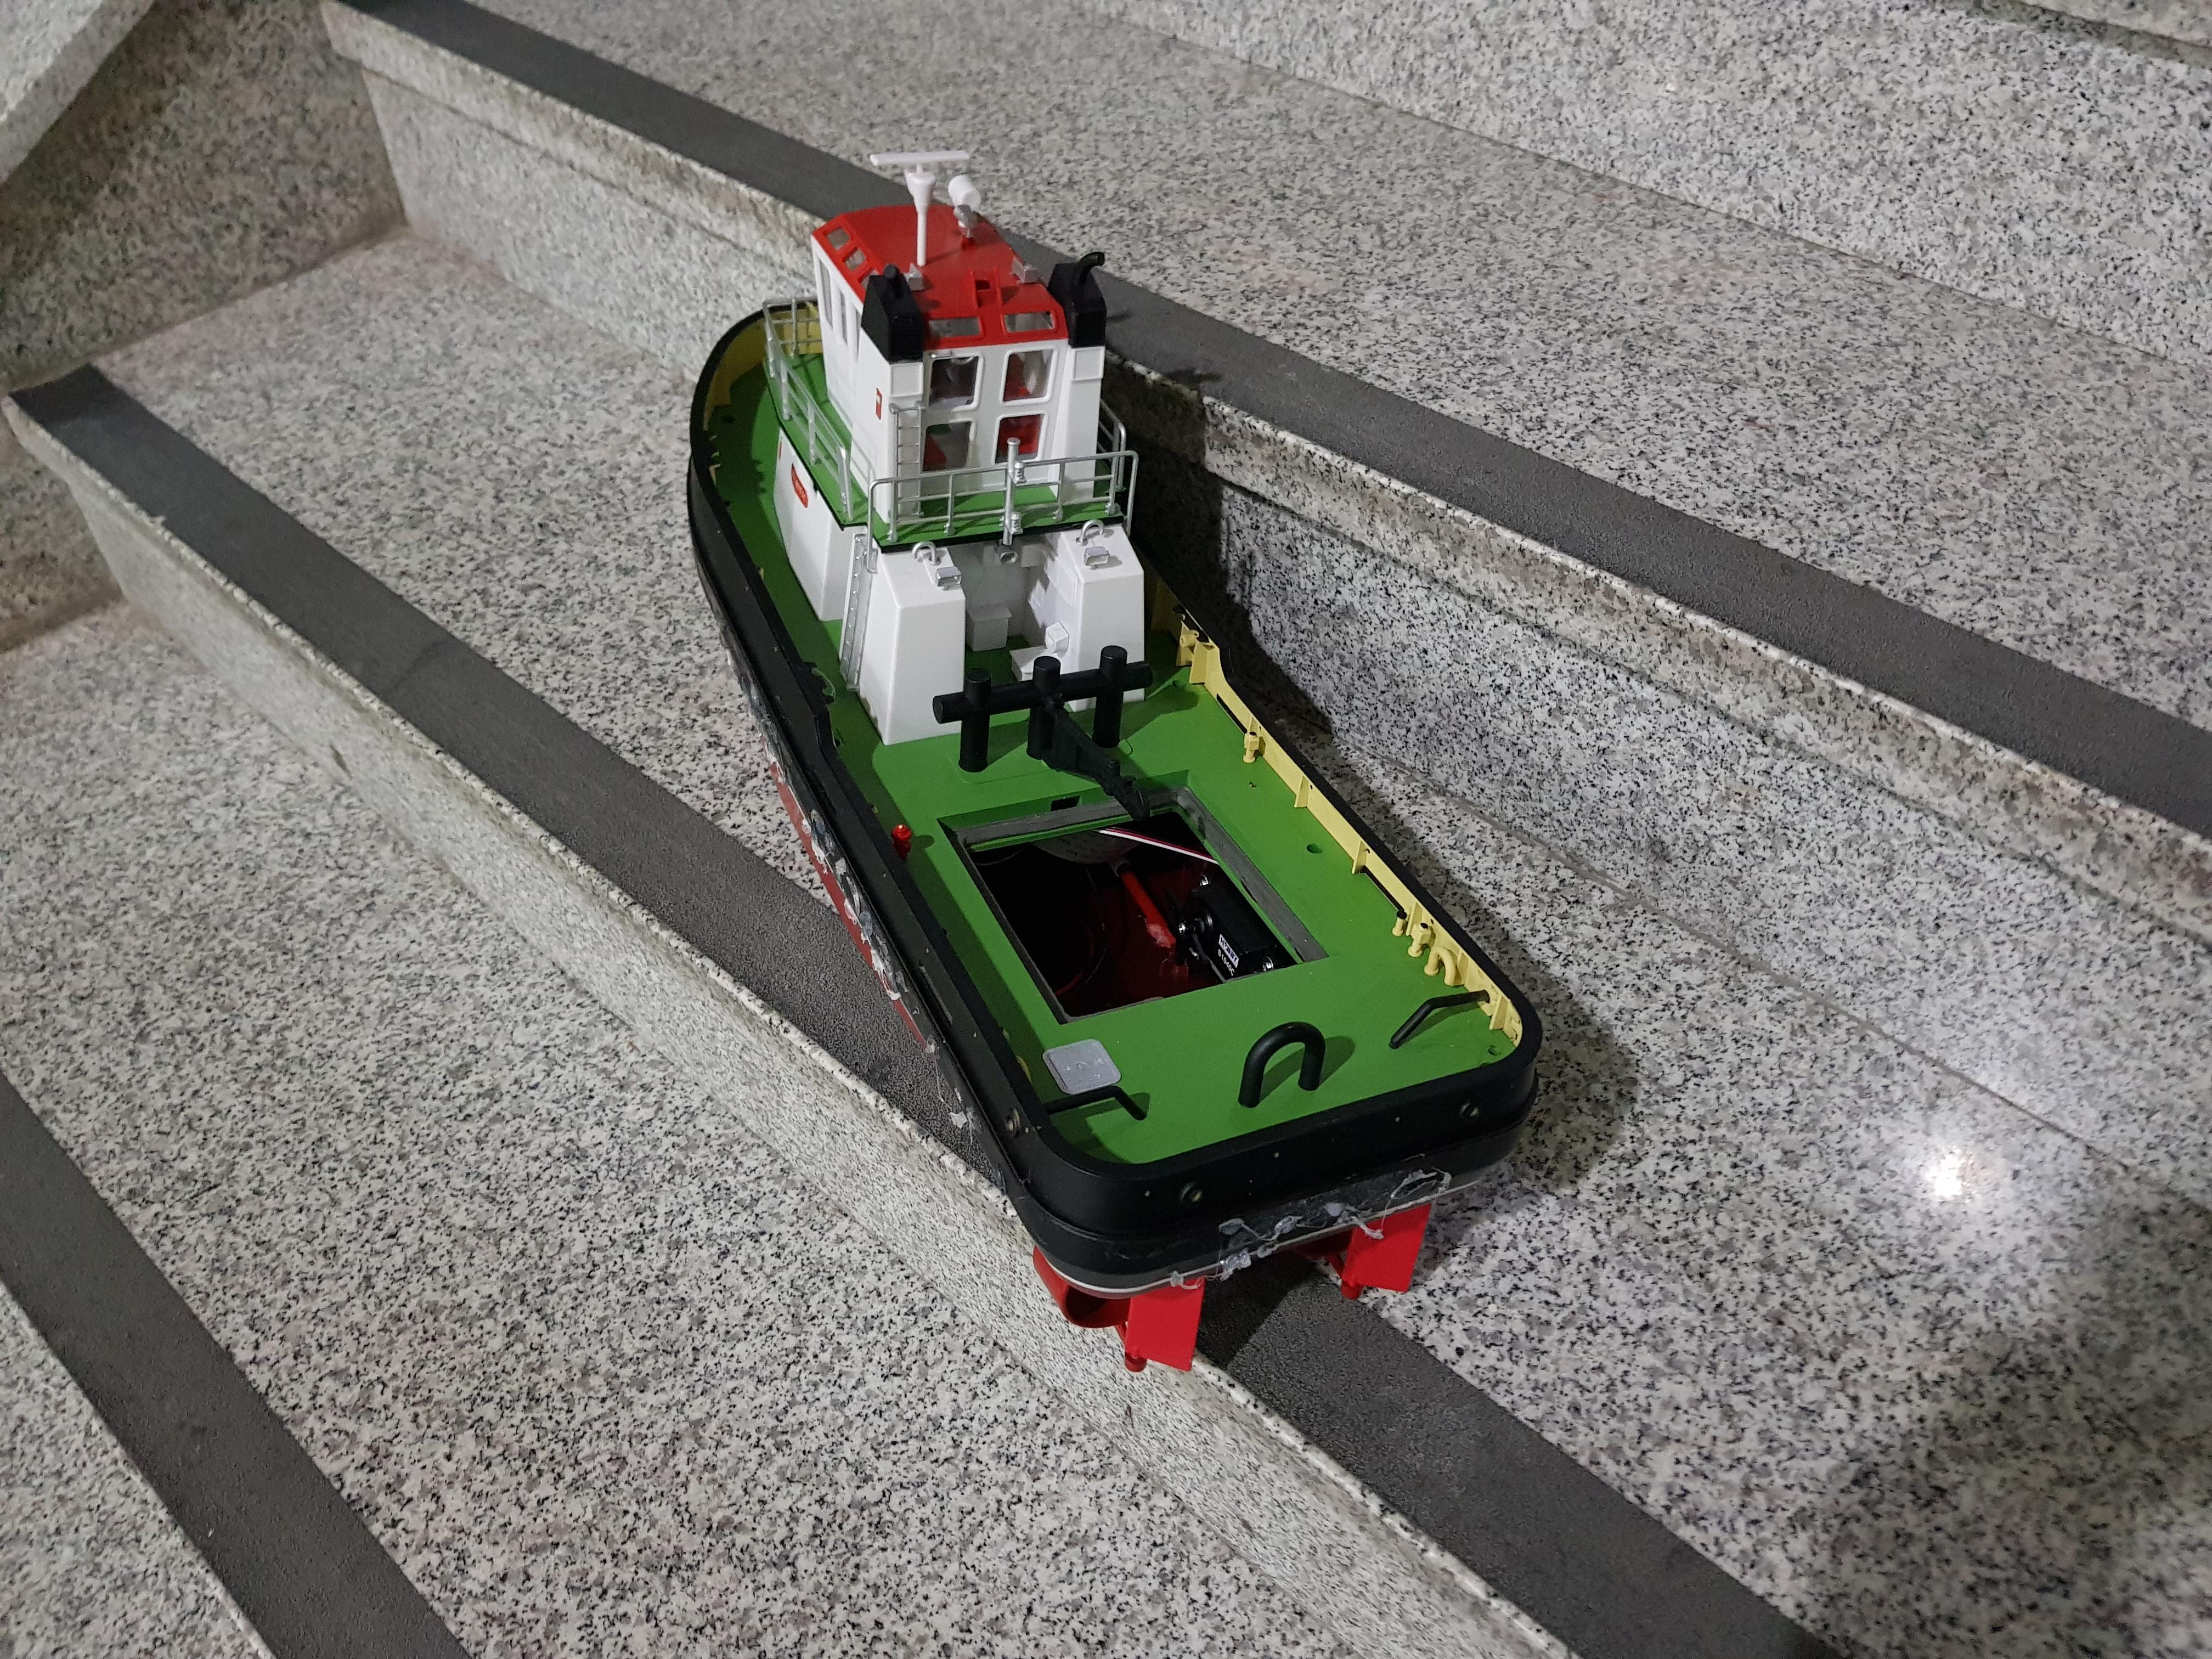Boat: (688, 145, 1531, 1337)
